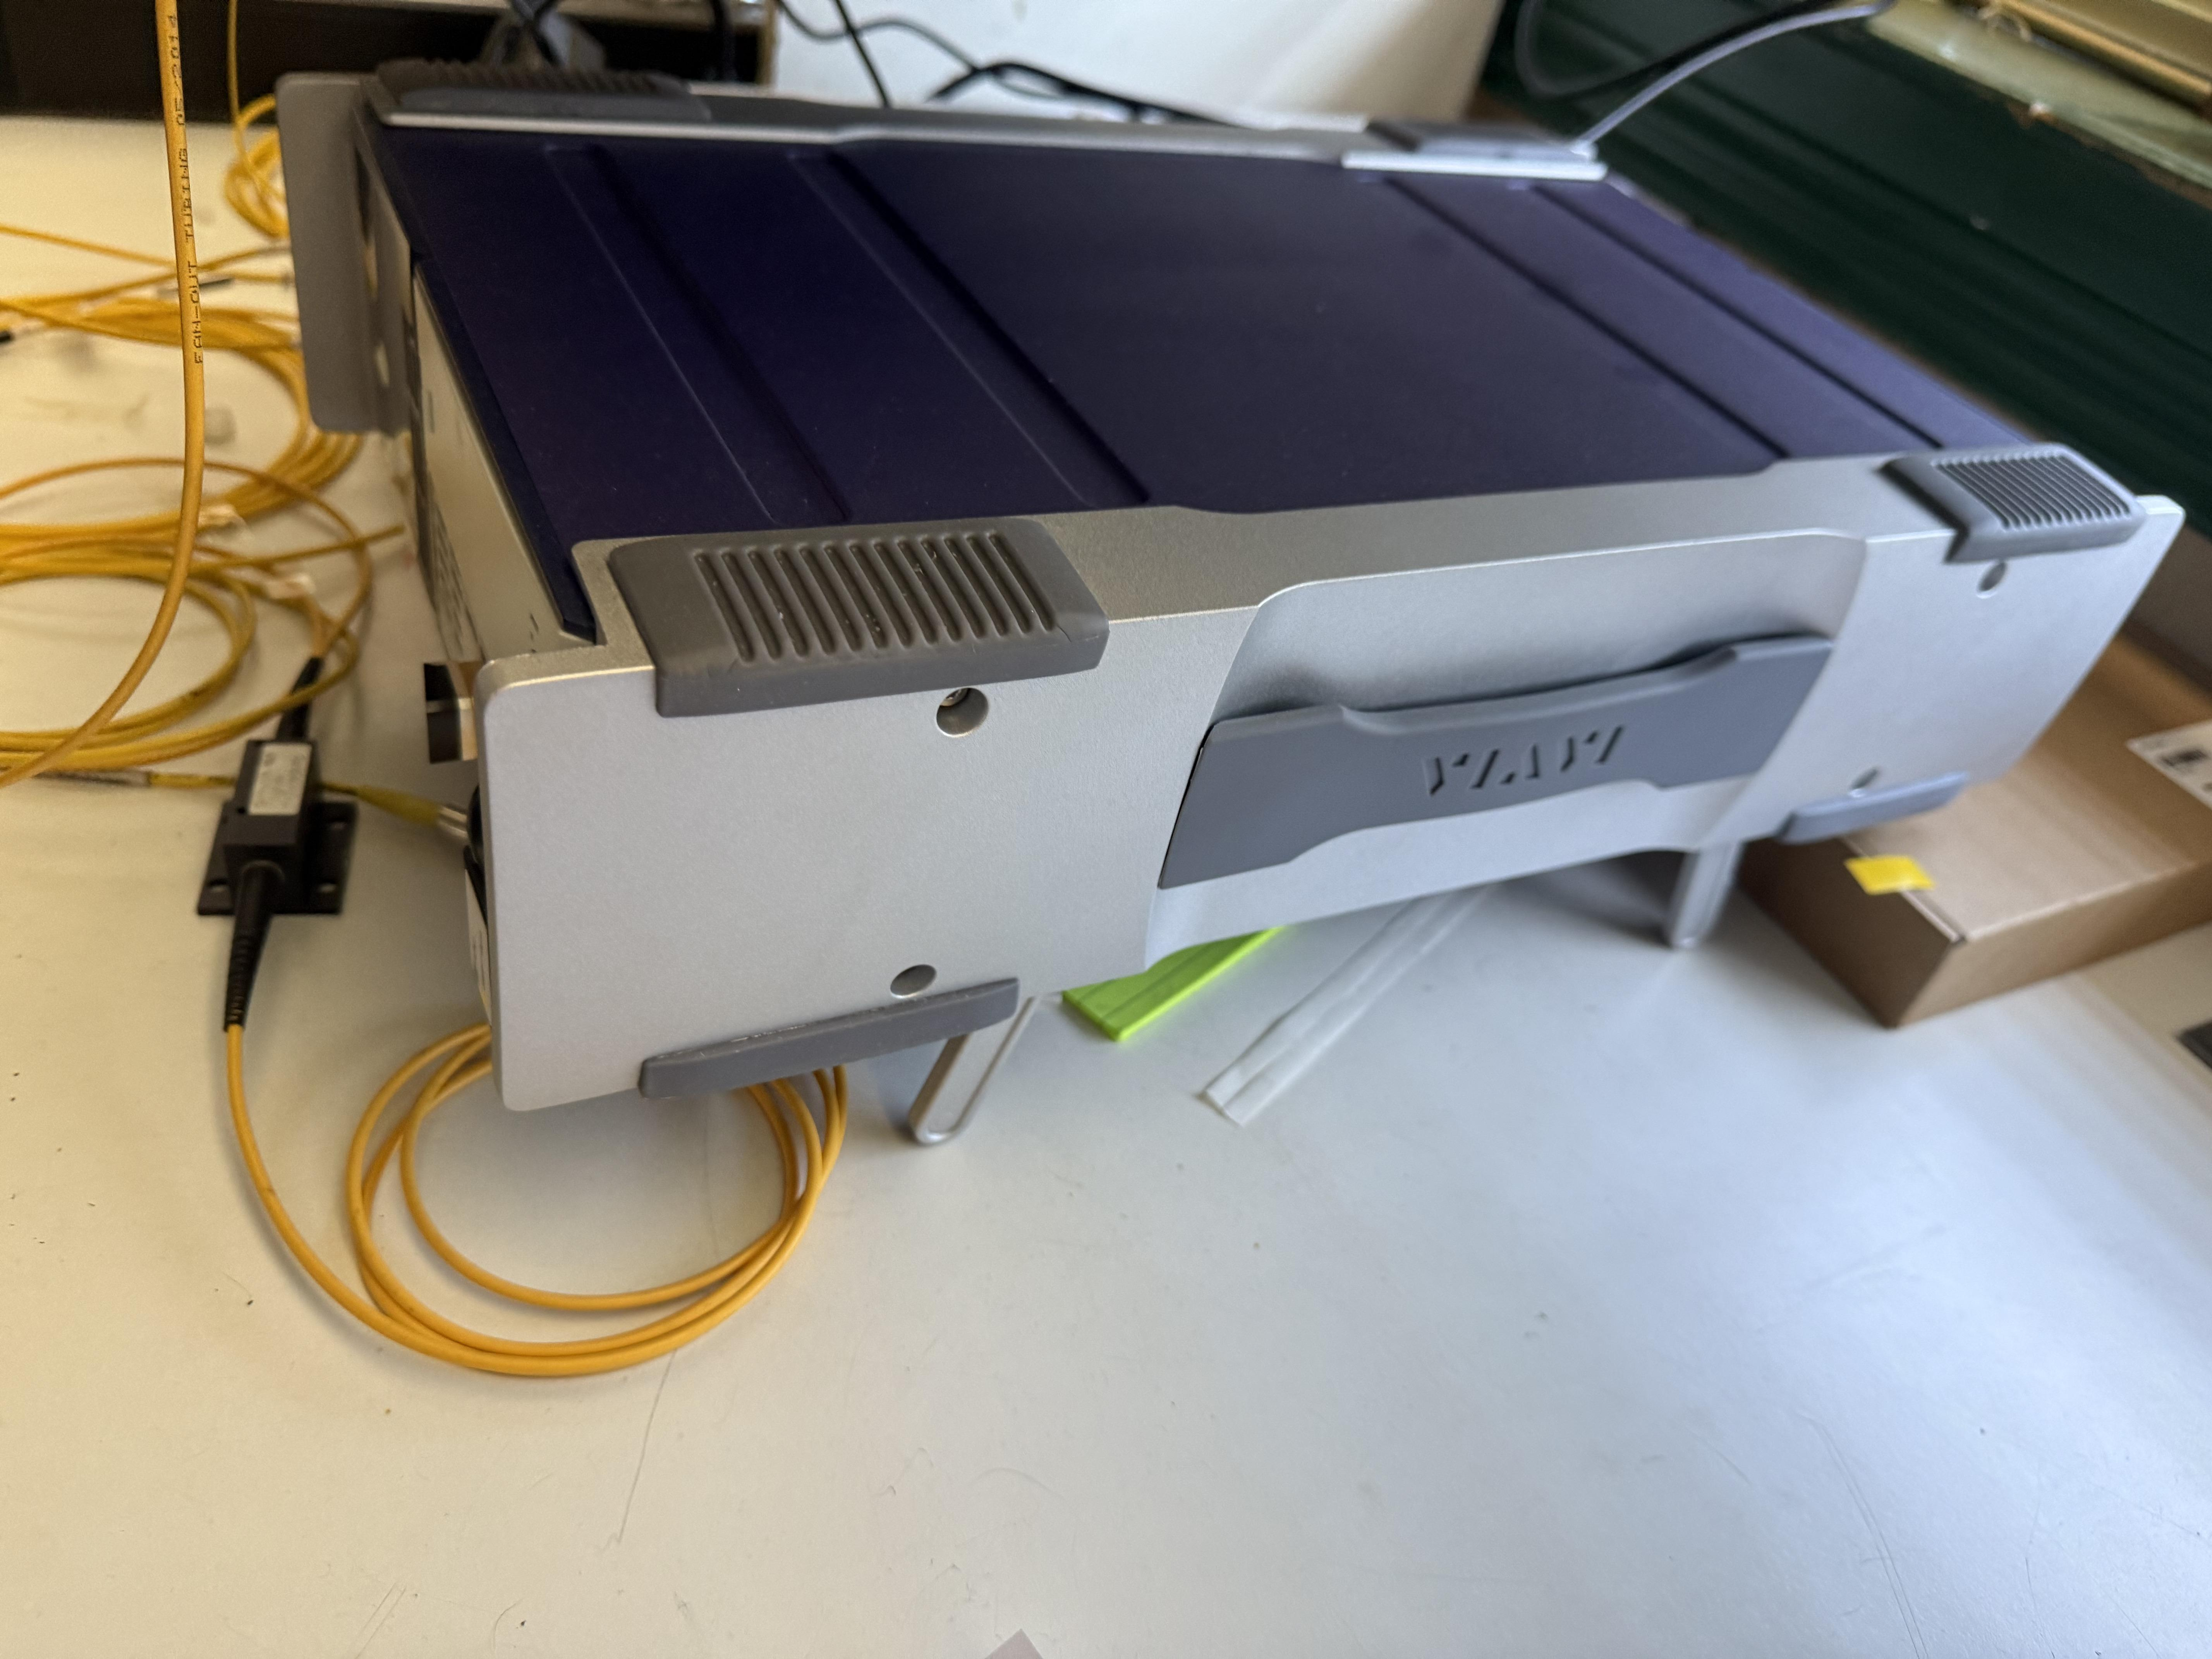laser: (266, 82, 2207, 1243)
